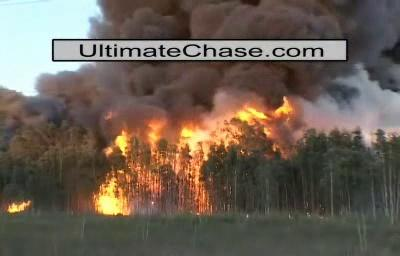fire: (97, 116, 292, 216)
smoke: (93, 4, 390, 105)
